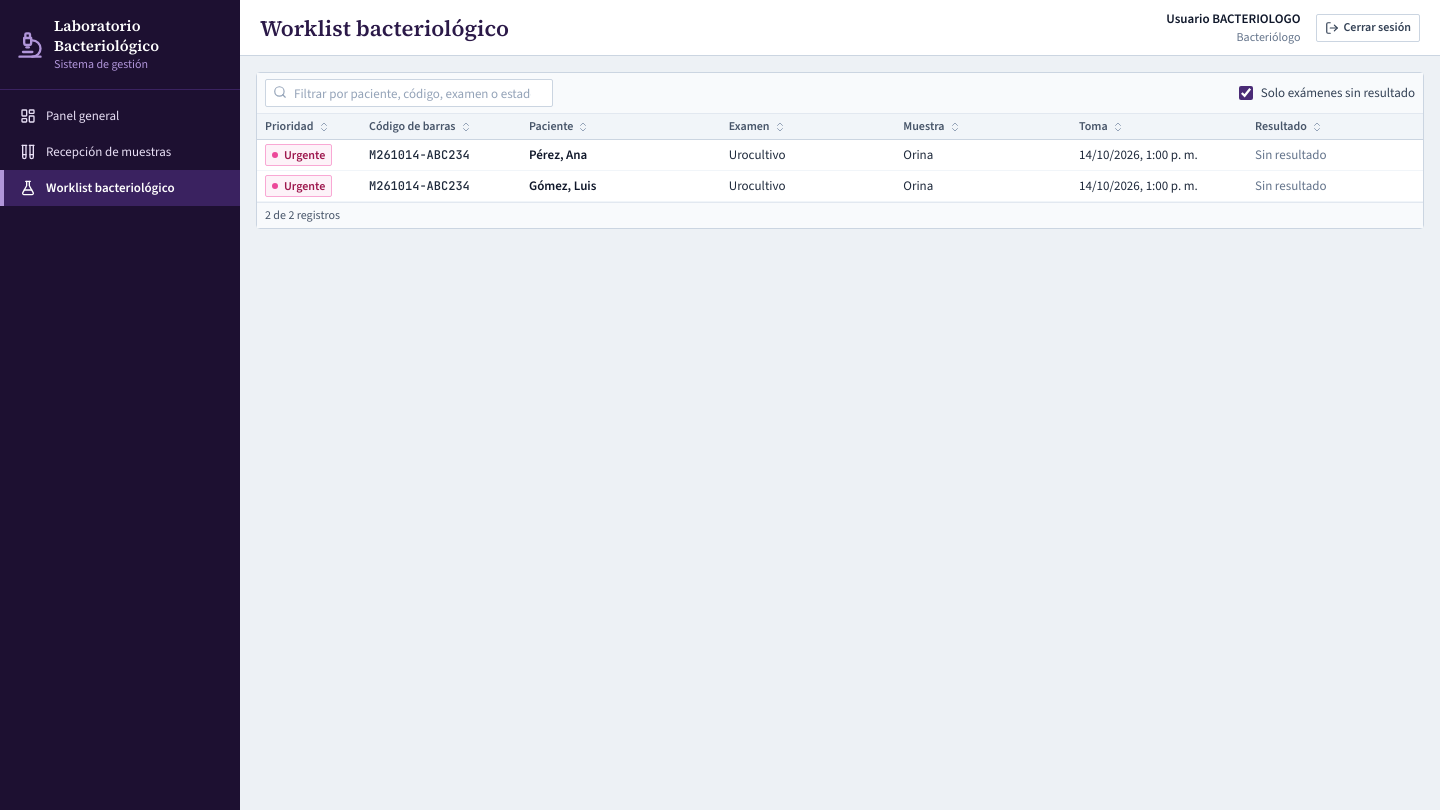
Tabla densa › filtra en tiempo real sin distinguir tildes ni mayúsculas
The image size is (1440, 810).
expect the text "Pérez, Ana" is shown: met, box [529,146,587,163]
expect the text "Gómez, Luis" is shown: met, box [529,177,596,194]
Type "PEREZ" into the search field at (409, 93), box [265,79,553,107]
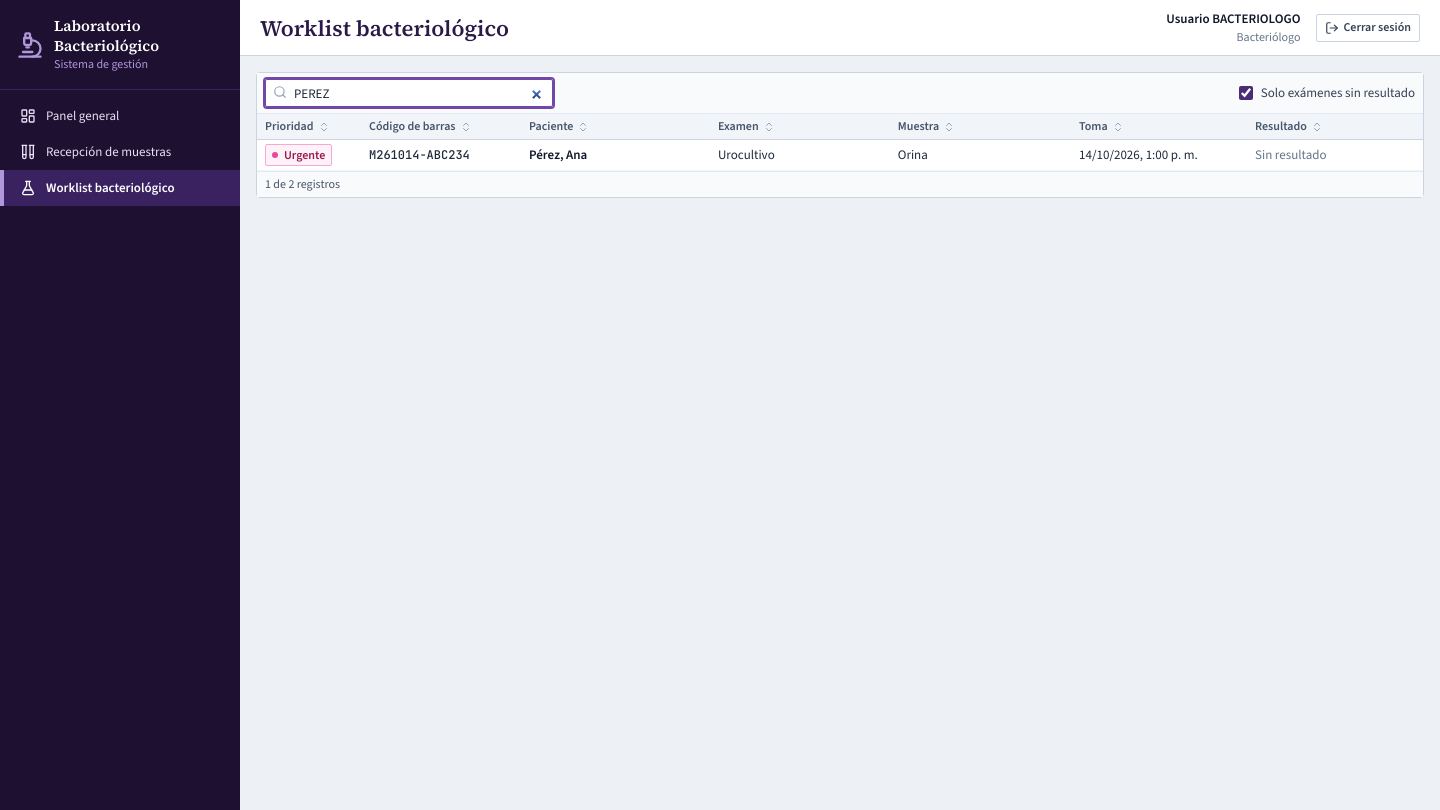
expect the text "Pérez, Ana" is shown: met, box [529,146,587,163]
expect the text "Gómez, Luis" is gone: met
